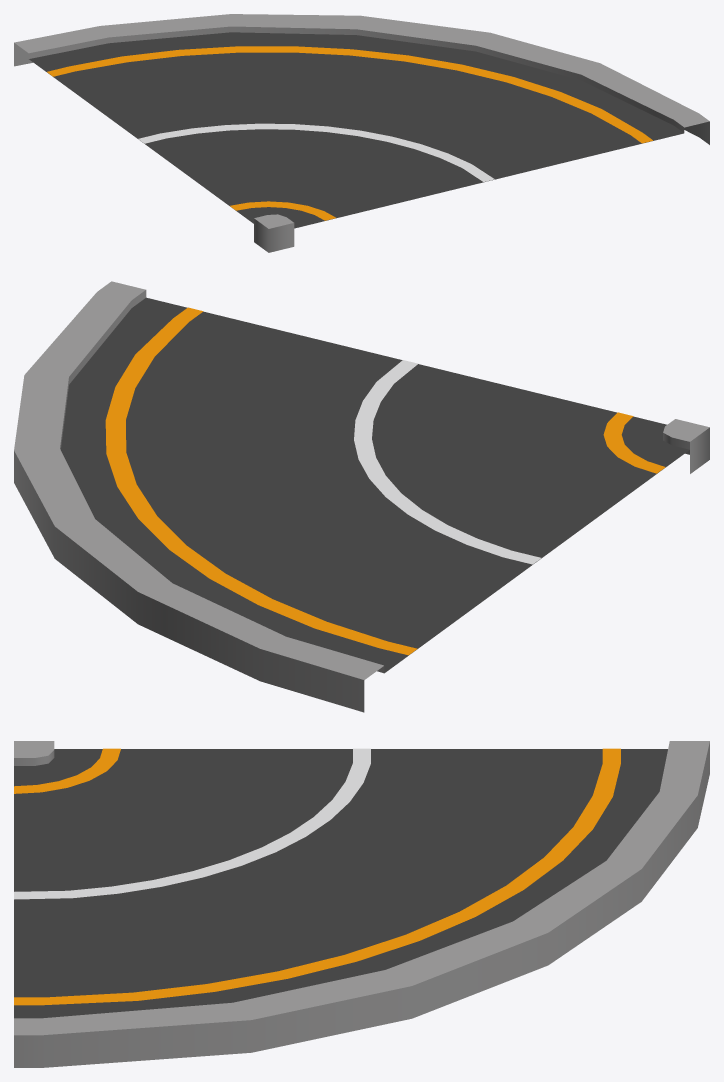
File: Road_A_8.glb
The picture shows the model from 3 angles, top to bottom: view 1: azimuth 30°, elevation 25°; view 2: azimuth 150°, elevation 25°; view 3: azimuth 270°, elevation 25°; orthographic projection. The views are drawn at different scales.
Parts seen in each view (by area): view 1: Road_A_8; view 2: Road_A_8; view 3: Road_A_8.
Part boxes in pixels (left/top/right/bottom): Road_A_8: left=14, top=14, right=709, bottom=252; Road_A_8: left=14, top=281, right=709, bottom=712; Road_A_8: left=14, top=741, right=709, bottom=1067.
Size of the model in its own units: 8 by 0.4148 by 8.
1 material, 1 textured.
